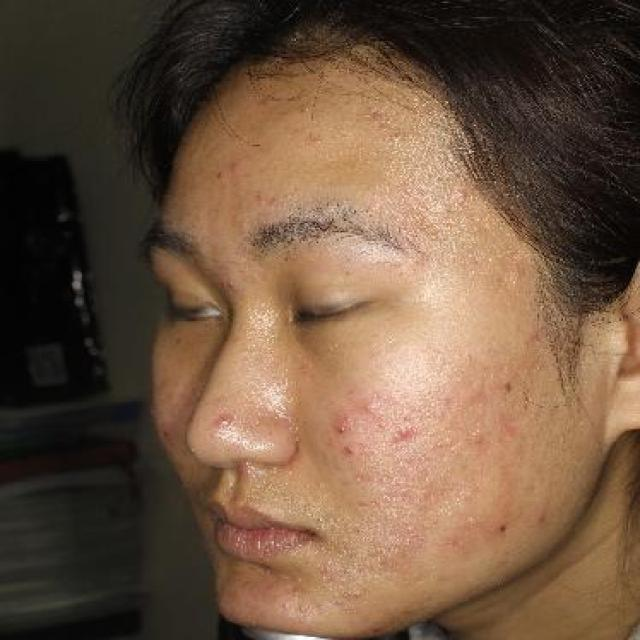pustules: (212, 414, 238, 431), (398, 423, 418, 439), (472, 429, 490, 445), (455, 190, 472, 198), (279, 602, 293, 610), (354, 588, 363, 600), (340, 592, 352, 600)
whiteheads: (358, 109, 374, 122), (354, 142, 368, 150), (310, 137, 323, 145), (347, 163, 361, 169), (337, 125, 347, 132)
